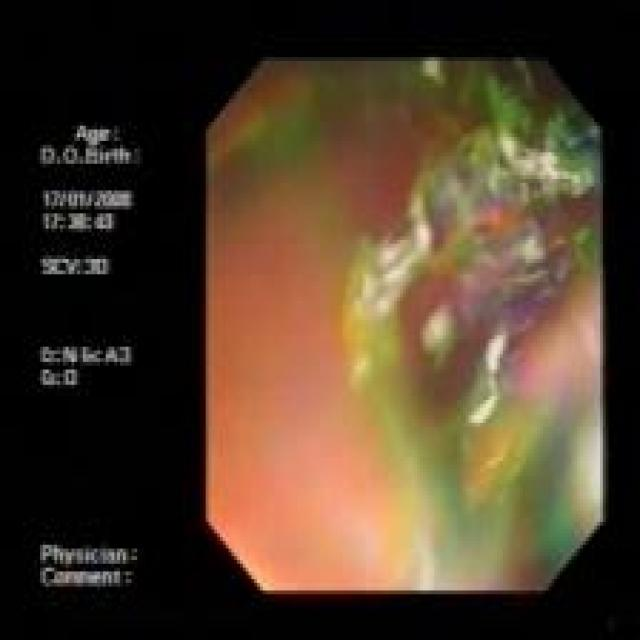color misalignment: (206, 54, 602, 593), (36, 120, 146, 589)
